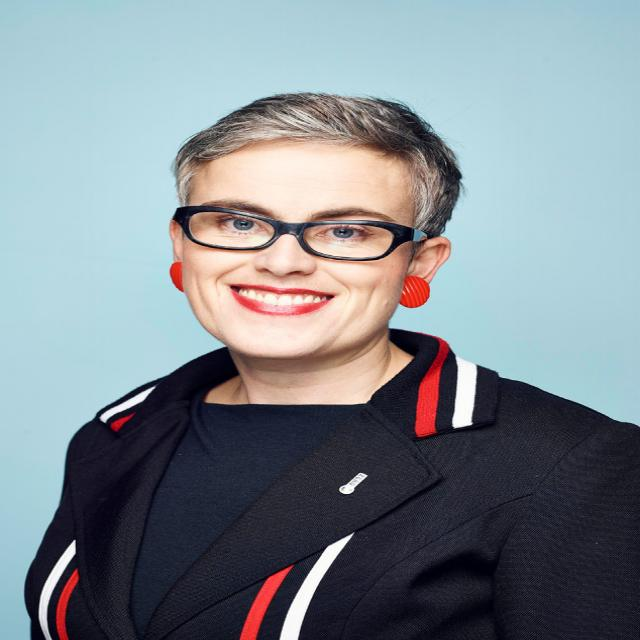Glasses: (168, 200, 446, 259)
